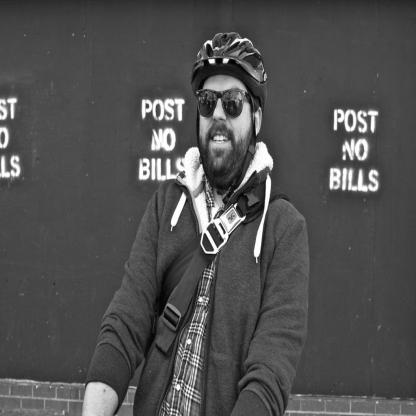Helmet: (190, 31, 269, 193)
